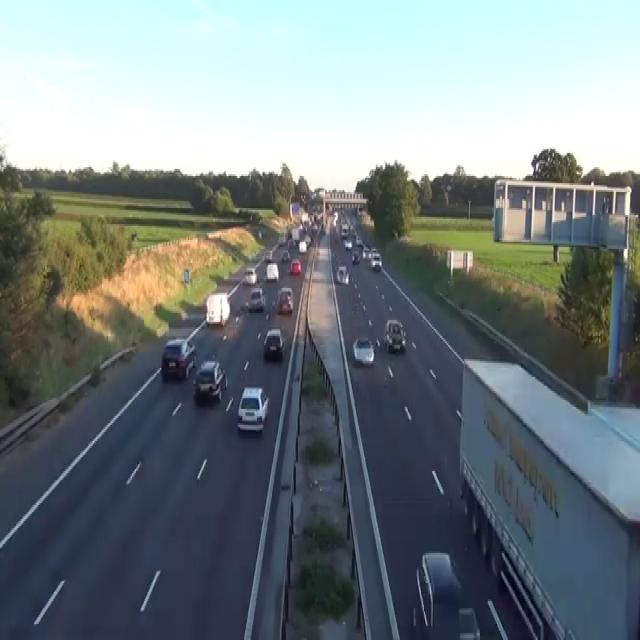Car: (415, 551, 462, 626), (236, 386, 269, 434), (192, 359, 227, 402), (161, 338, 196, 378), (384, 318, 406, 352), (458, 606, 480, 638), (352, 336, 374, 366), (263, 327, 283, 357), (247, 286, 265, 311), (275, 288, 293, 313), (88, 362, 100, 386), (335, 265, 349, 284), (266, 261, 279, 281), (243, 266, 256, 284), (371, 251, 382, 270), (280, 286, 293, 300), (290, 258, 301, 274), (362, 245, 371, 258), (351, 251, 359, 265), (340, 224, 348, 238), (455, 407, 462, 423), (281, 249, 290, 261), (331, 249, 338, 263), (298, 240, 306, 252), (264, 249, 272, 261), (278, 233, 286, 245), (287, 237, 296, 247), (344, 238, 352, 249), (304, 235, 311, 247), (350, 224, 357, 236), (355, 237, 363, 247), (370, 245, 377, 256), (300, 192, 306, 203), (130, 231, 137, 240), (356, 206, 361, 217), (258, 230, 262, 238)
Truck: (458, 356, 639, 638), (205, 292, 230, 326)
